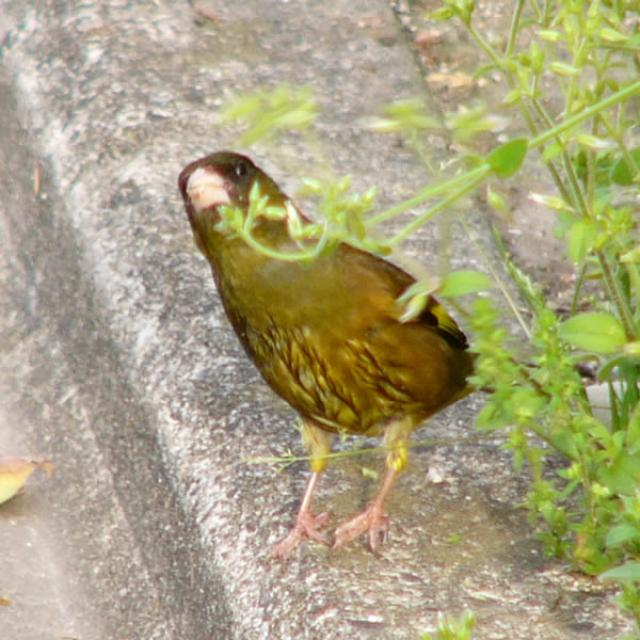bird: (176, 143, 483, 564)
